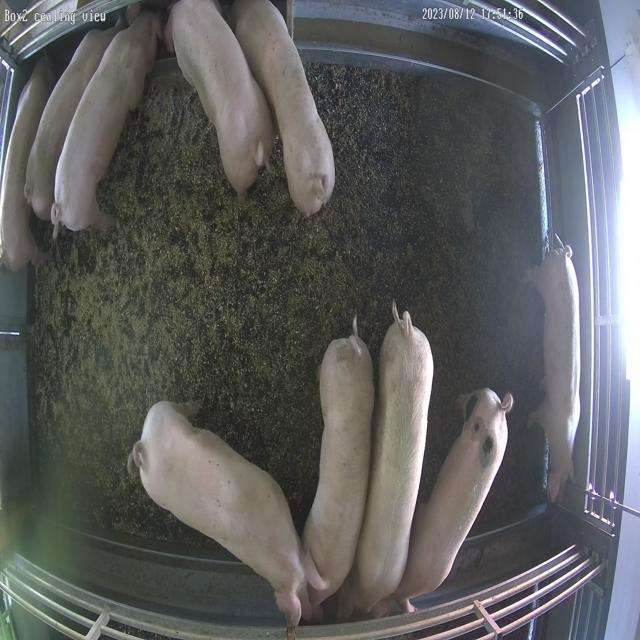Dirt: (32, 65, 546, 550)
Pig: (132, 402, 306, 626), (374, 389, 514, 616), (339, 305, 434, 618), (51, 11, 162, 230), (231, 0, 335, 216), (166, 0, 272, 198), (303, 318, 375, 608), (24, 29, 116, 220), (537, 246, 582, 502), (0, 55, 53, 270)
